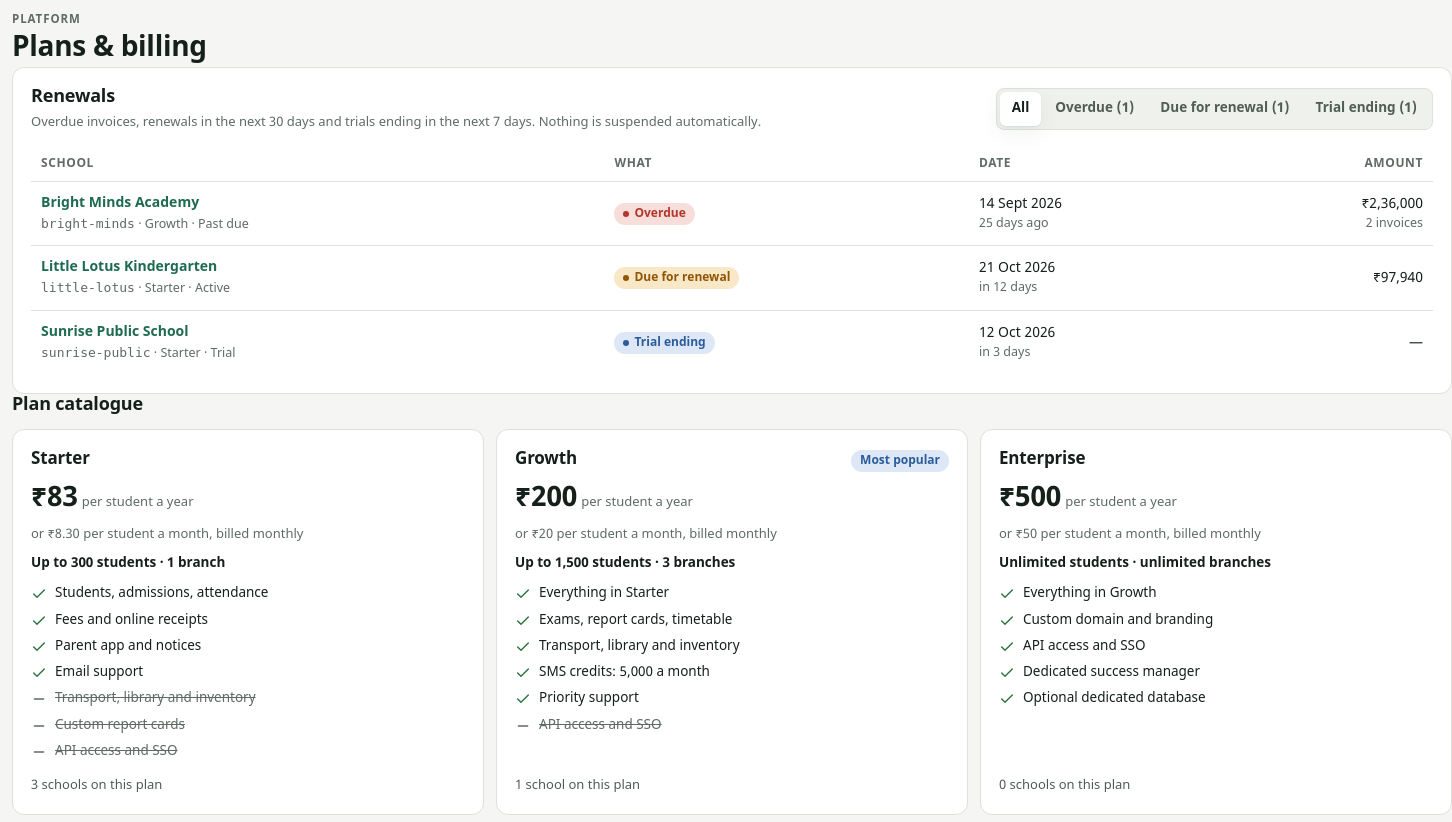
it: RenewalsView › lists overdue, due and trial-ending schools with links, and filters them
Expected: the number of rows is 4, [31, 147, 1433, 181]; [31, 181, 1433, 246]; [31, 246, 1433, 311]; [31, 311, 1433, 375]
Expected: the text "₹2,36,000" is shown, [1362, 195, 1423, 214]
Click the radio button labelled "Overdue (1)". click: {"x": 1095, "y": 109}
box: [1055, 100, 1134, 118]
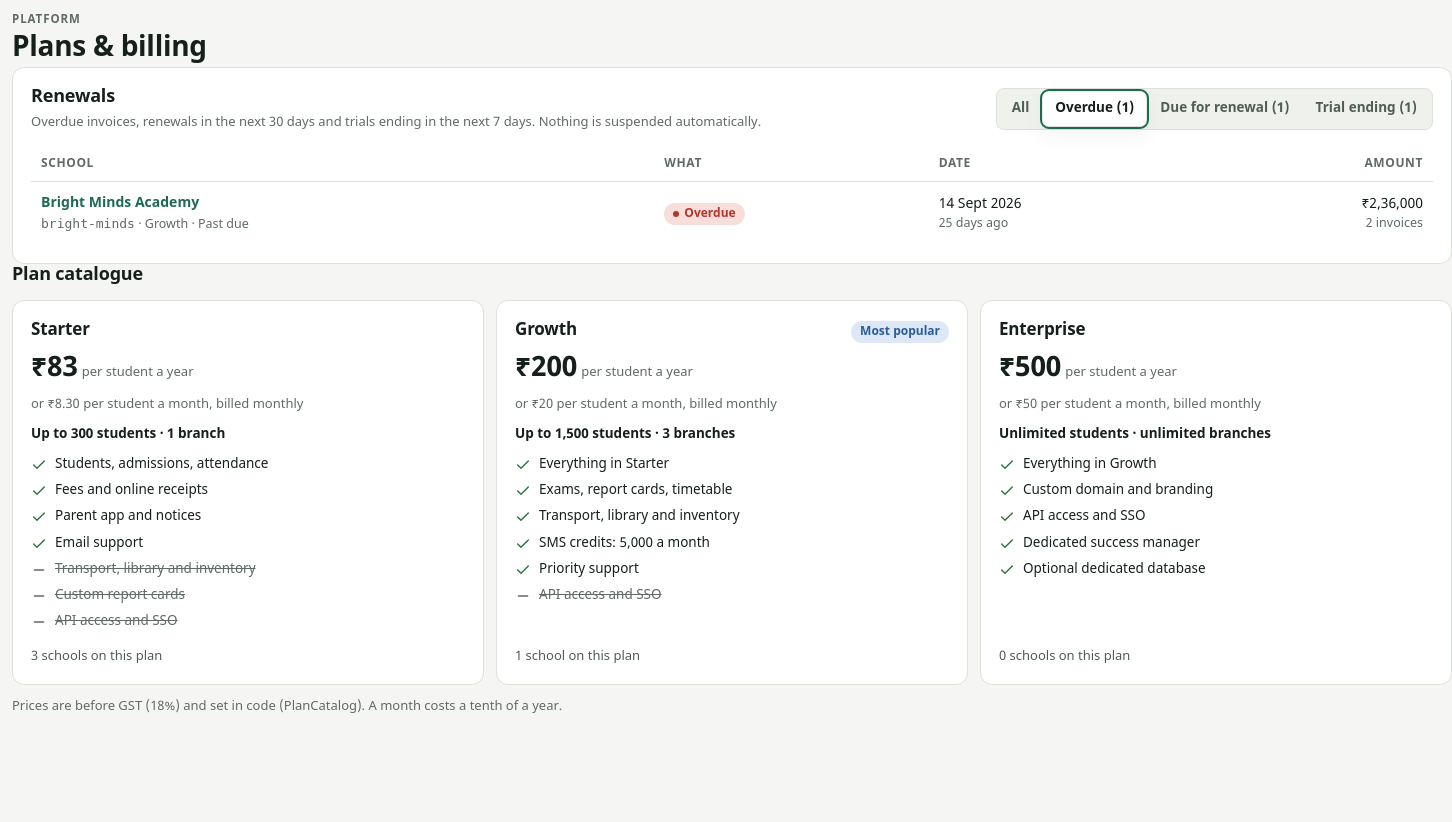
Result: the number of rows is 2 at [31, 147, 1433, 181]; [31, 181, 1433, 246]
Click the radio button labelled "Trial ending (1)". click: {"x": 1366, "y": 109}
box: [1316, 100, 1417, 118]
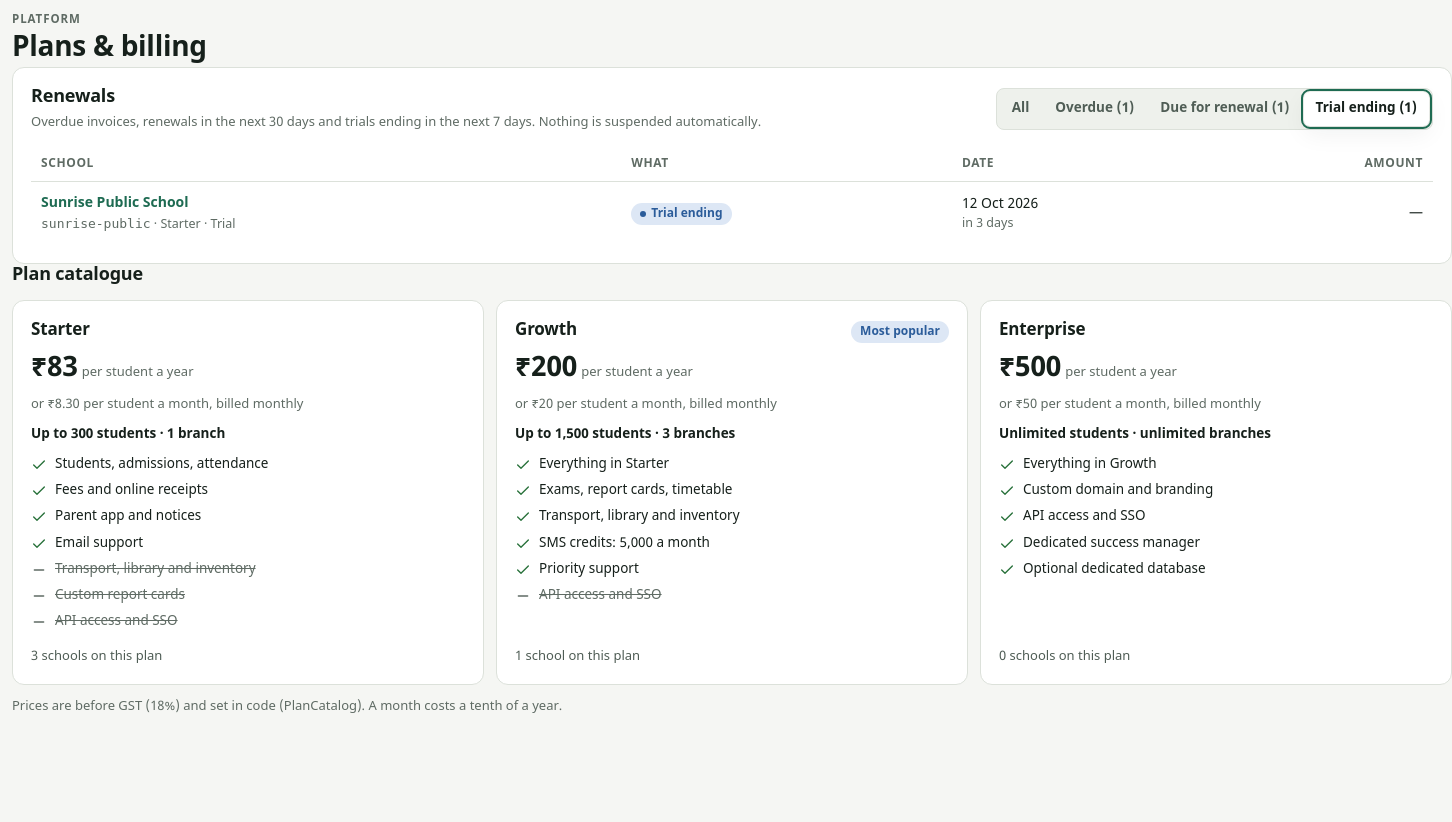
Expected: the text "3 schools on this plan" is shown, [31, 648, 162, 665]
Result: the link "Sunrise Public School" is shown at [41, 194, 188, 213]
Result: the link "Bright Minds Academy" is gone
